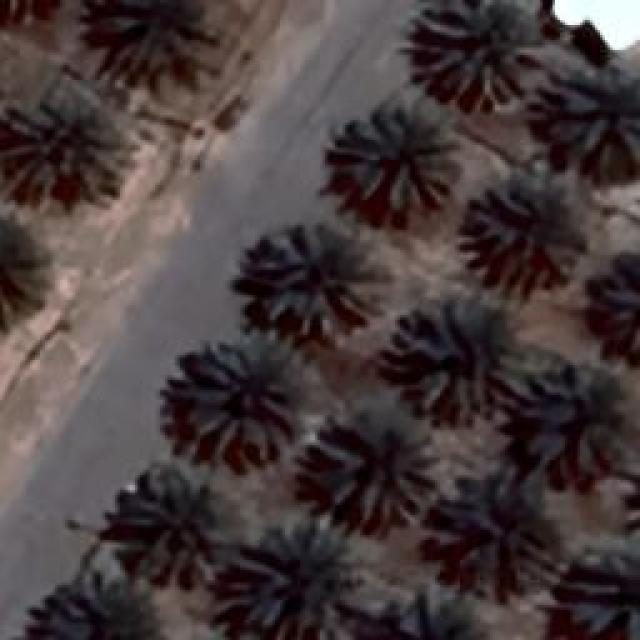PalmTree: (77, 28, 424, 616), (215, 512, 383, 638), (397, 287, 545, 415), (180, 330, 308, 468), (312, 400, 438, 528), (465, 162, 590, 290), (250, 220, 390, 330), (415, 2, 560, 108), (0, 87, 128, 205), (440, 465, 558, 590), (524, 358, 636, 482), (338, 100, 460, 210), (115, 464, 220, 588), (0, 214, 60, 344), (560, 64, 638, 158), (562, 542, 636, 638), (102, 0, 208, 65), (42, 580, 132, 640), (592, 252, 638, 352)
